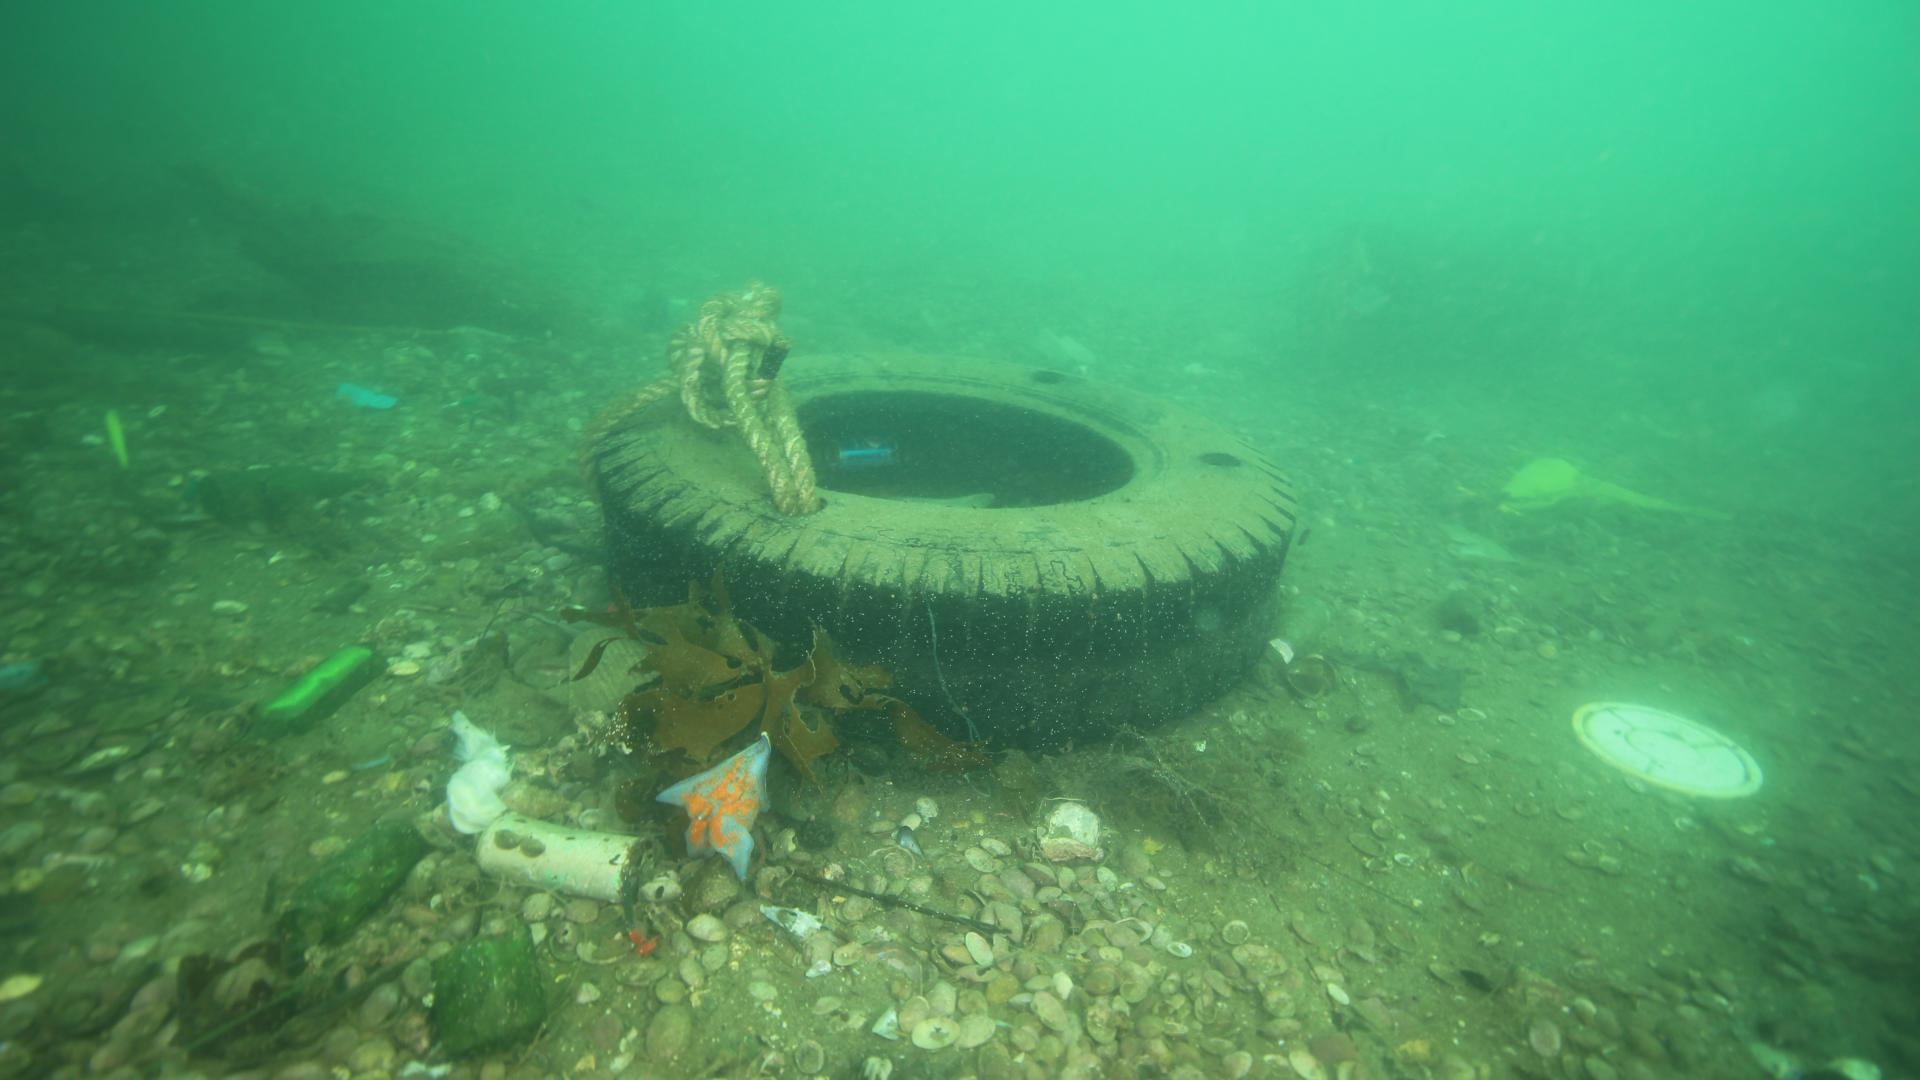bundle of ropes: (585, 280, 825, 520)
tire: (587, 344, 1302, 746)
